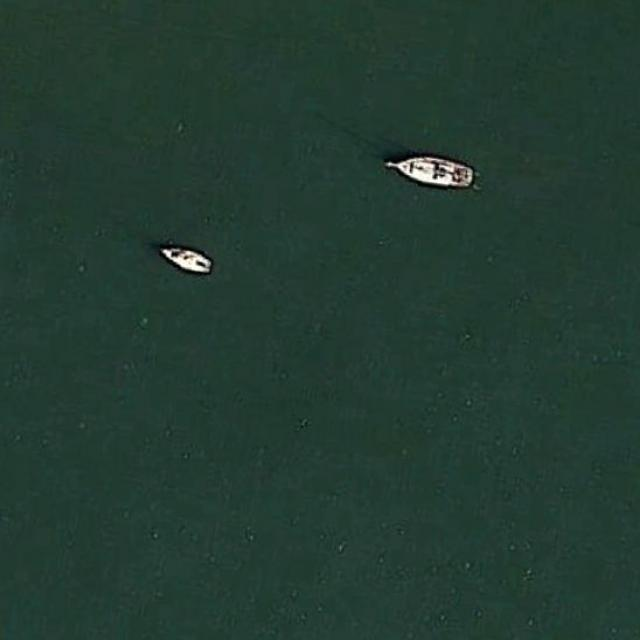ship: (386, 154, 474, 190), (158, 248, 212, 276)
